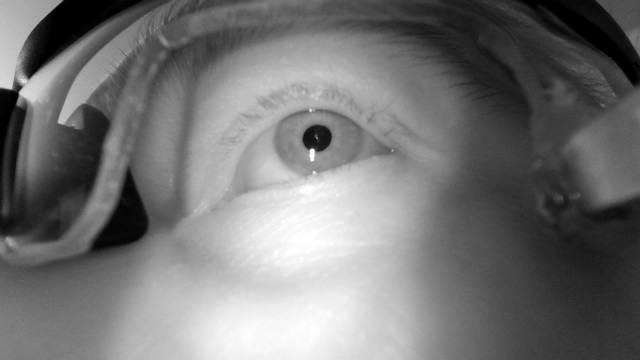pupil: (302, 124, 333, 153)
